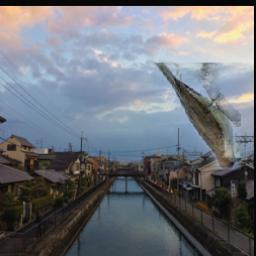Cuckoo: (154, 63, 241, 170)
